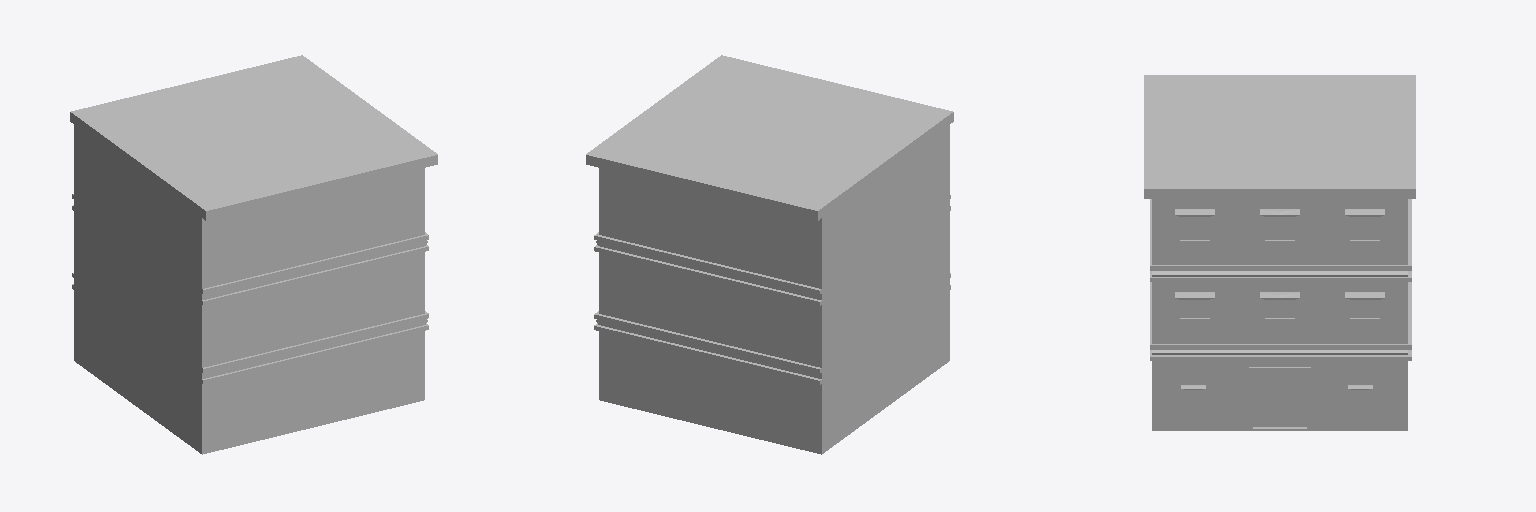
Rendered from building01.obj.
3 renders of one model, left to right at view 1: azimuth 30°, elevation 25°; view 2: azimuth 150°, elevation 25°; view 3: azimuth 270°, elevation 25°, orthographic.
Parts seen in each view (by area): view 1: Cube.002_Material_0.002; view 2: Cube.002_Material_0.002; view 3: Cube.002_Material_0.002.
Part boxes in pixels (x1,y1,x2,y2): Cube.002_Material_0.002: (70, 55, 437, 454); Cube.002_Material_0.002: (586, 55, 953, 454); Cube.002_Material_0.002: (1144, 75, 1415, 430).
Size of the model in its own units: 1 by 1 by 1.